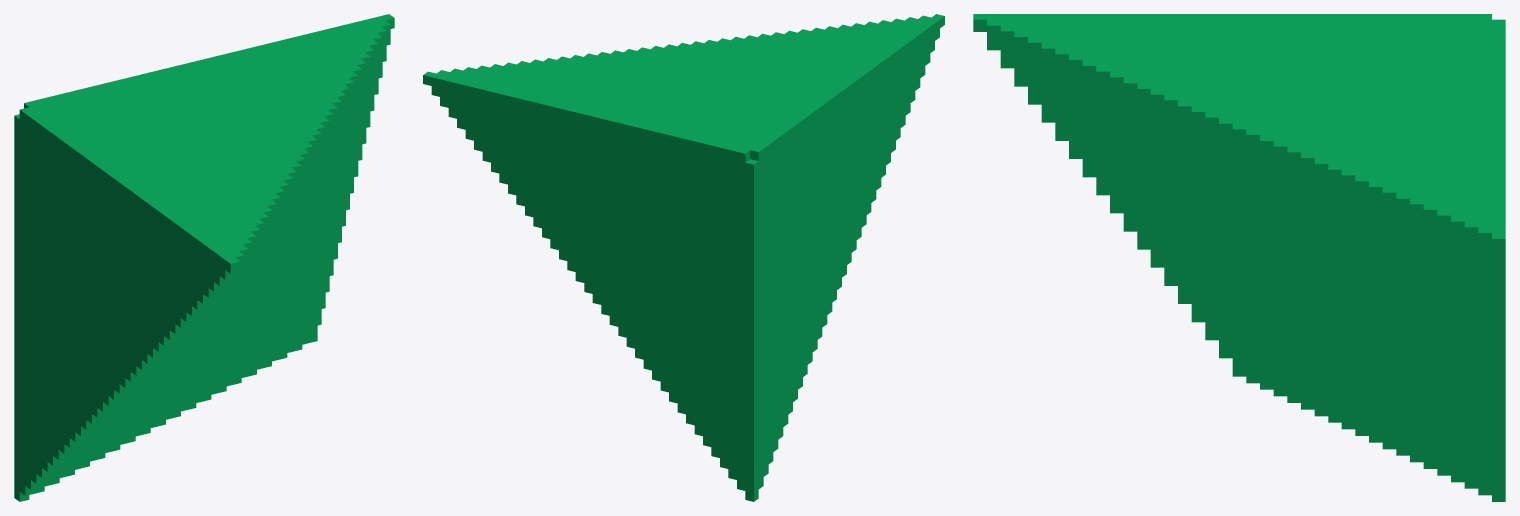
Rendered from crystal-8.obj.
3 views of the same model, side by side, from view 1: azimuth 30°, elevation 25°; view 2: azimuth 150°, elevation 25°; view 3: azimuth 270°, elevation 25° (orthographic). The views are drawn at different scales.
Size of the model in its own units: 3.9 by 3.9 by 3.9.
Materials: 1 (1 with a texture image).
